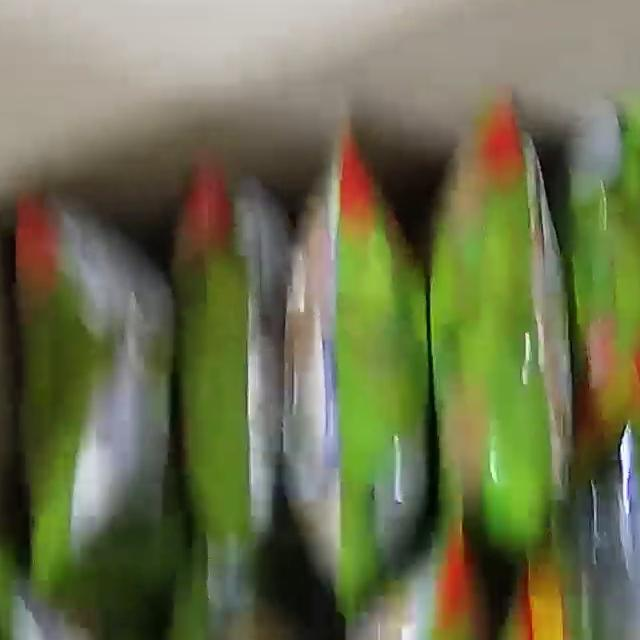yogurt: (0, 135, 640, 640)
